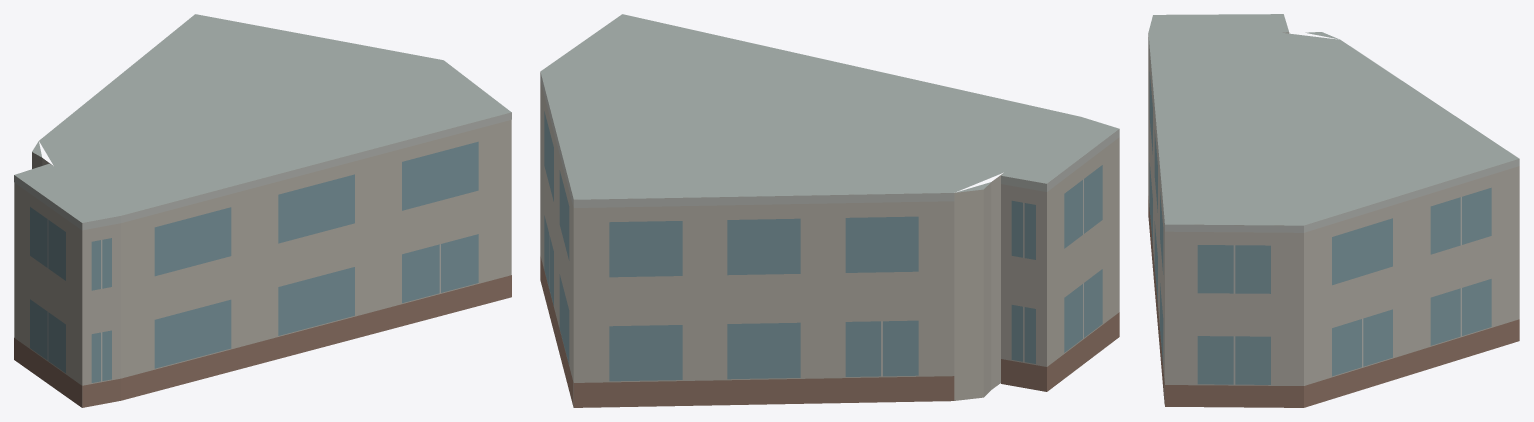
Rendered from survey-upis-32533724.glb.
The picture shows the model from 3 angles, left to right: view 1: azimuth 30°, elevation 25°; view 2: azimuth 150°, elevation 25°; view 3: azimuth 270°, elevation 25°; orthographic projection. The views are drawn at different scales.
Parts seen in each view (by area): view 1: survey-upis-32533724.tmp; view 2: survey-upis-32533724.tmp; view 3: survey-upis-32533724.tmp.
Part boxes in pixels (x1,y1,x2,y2): survey-upis-32533724.tmp: (14,14,511,407); survey-upis-32533724.tmp: (540,14,1119,407); survey-upis-32533724.tmp: (1148,14,1519,407).
Size of the model in its own units: 15.2 by 6.1 by 11.27.
